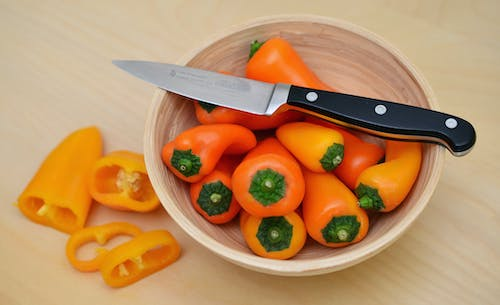knife: (110, 57, 478, 160)
